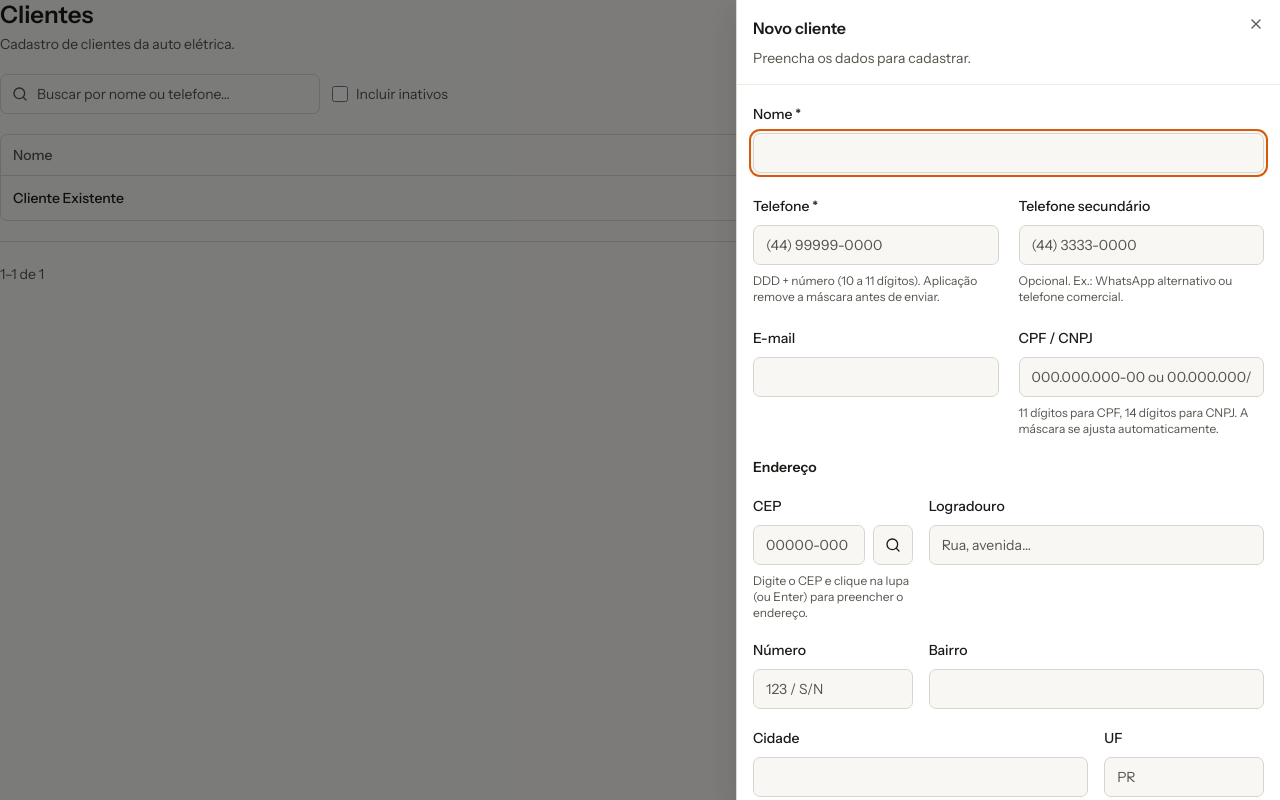
Test case: ClienteFormDrawer › submeter cria o cliente e fecha o drawer
The image size is (1280, 800).
Step 1. Type "João da Silva" into the field labelled "Nome *" → (1008, 153), box [753, 133, 1264, 173]
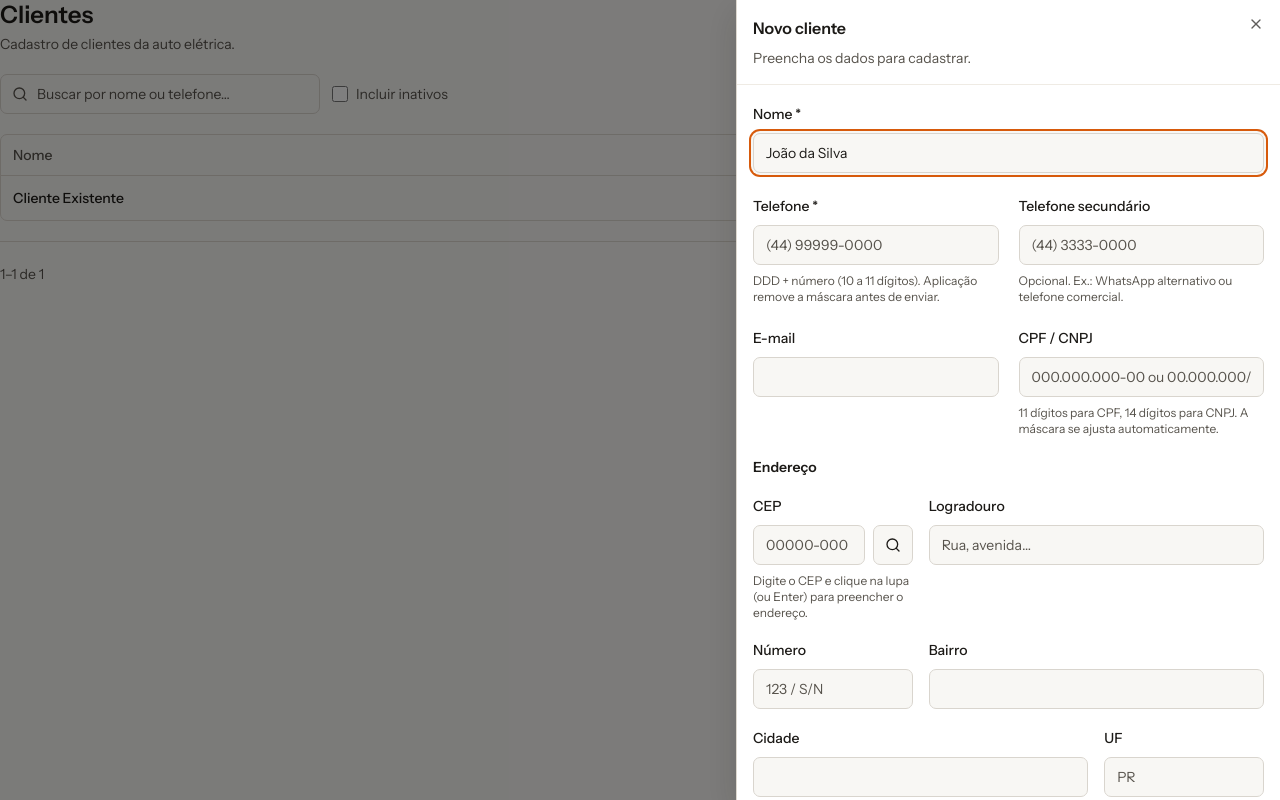
Step 2. Type "44999990000" into the field labelled "Telefone *" → (876, 245), box [753, 225, 998, 265]
(page scrolled)
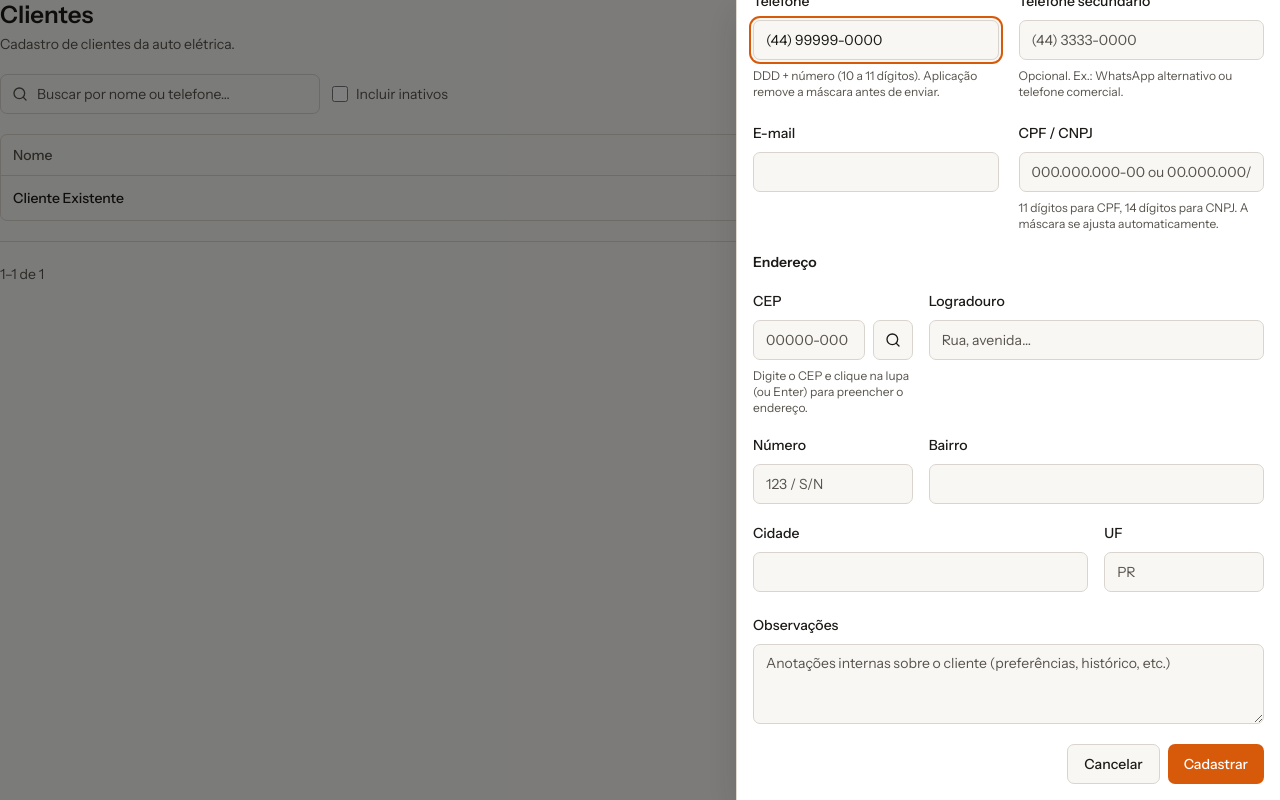
Step 3. Click the button "Cadastrar" → (1216, 764), box [1168, 744, 1264, 784]
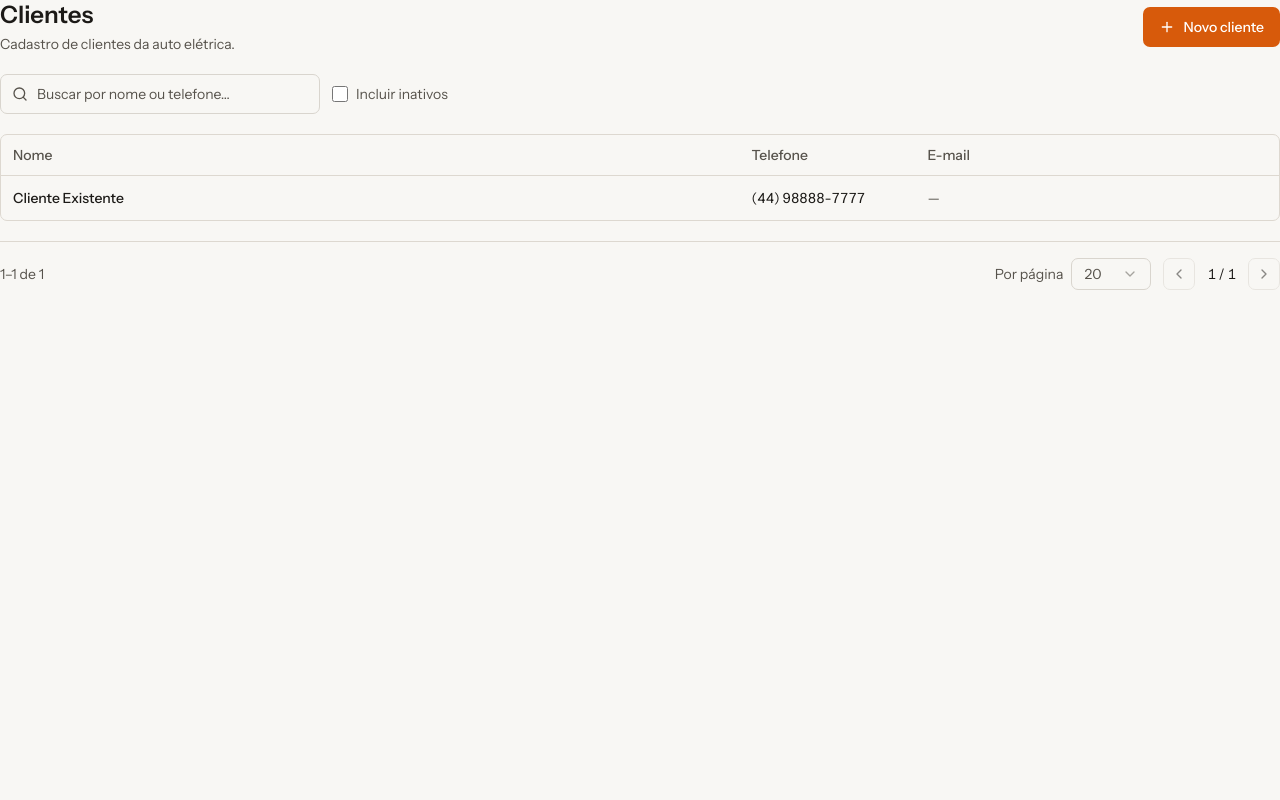
Now the dialog is gone
